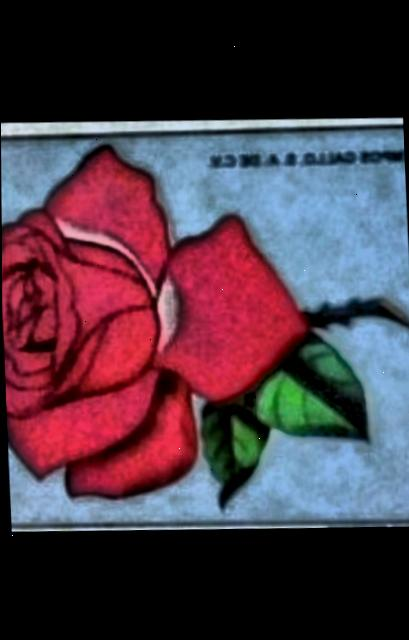La Rosa: (1, 126, 409, 523)
